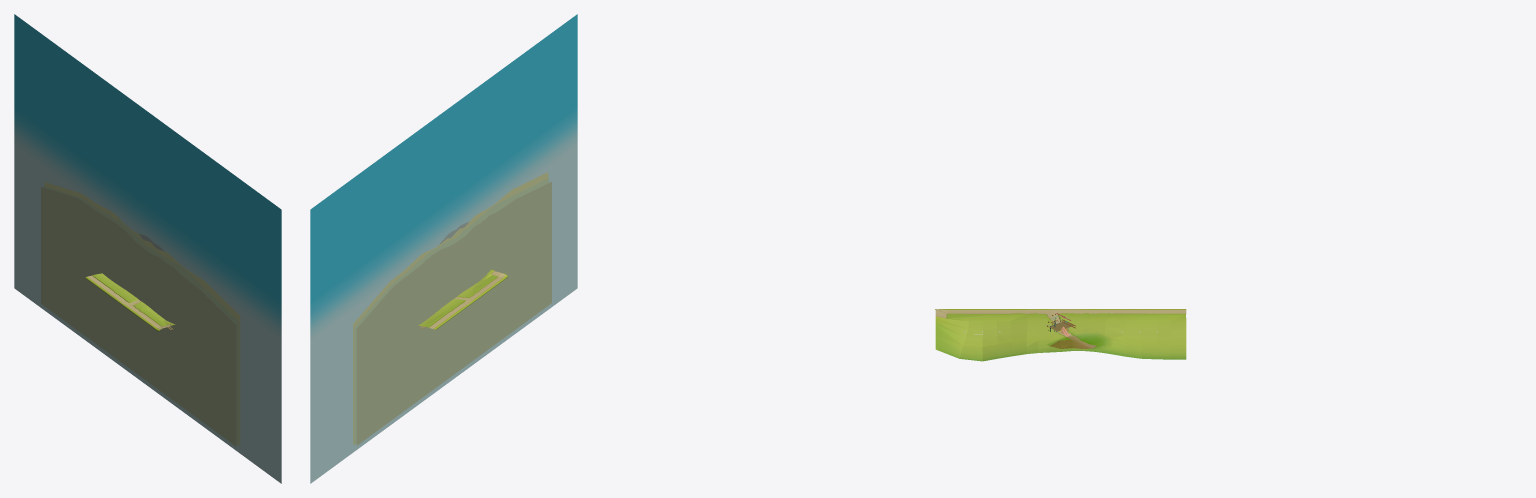
Rendered from GingerYardFlattened.glb.
The picture shows the model from 3 angles, left to right: view 1: azimuth 30°, elevation 25°; view 2: azimuth 150°, elevation 25°; view 3: azimuth 270°, elevation 25°; orthographic projection. The views are drawn at different scales.
Visible parts, largest first — view 1: Background_Sky, Background_Hills, Static_Sidewalk; view 2: Background_Sky, Background_Hills, Static_Sidewalk; view 3: Static_Sidewalk.
Part boxes in pixels (x1,y1,x2,y2): Background_Sky: (14,14,281,483); Background_Hills: (41,182,240,446); Static_Sidewalk: (85,273,175,331); Background_Sky: (310,14,577,483); Background_Hills: (353,172,551,445); Static_Sidewalk: (418,269,507,329); Static_Sidewalk: (935,309,1186,361).
Bounding box in the file's own units: 6.47 × 29.47 × 52.
